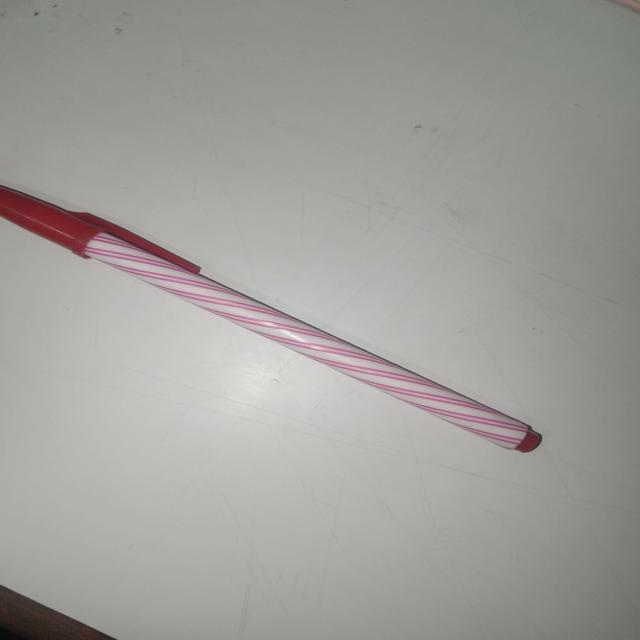pen_pencil: (0, 140, 587, 509)
